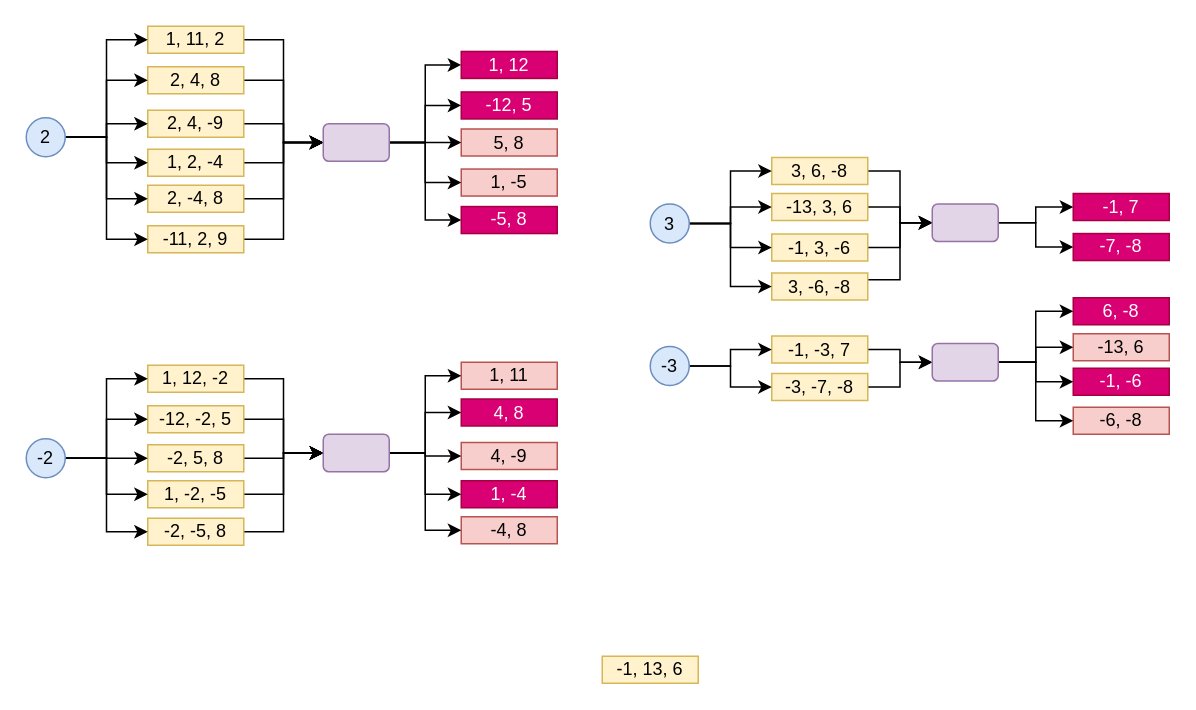
This 1196x710 diagram has some shape labels left out. The shapes that lost their labels are listed below. From the top down, each one's centre as x and y in pixels, then its label:
At (x=355, y=141): "2=A".
At (x=964, y=222): "3=A".
At (x=964, y=361): "3=Ψ".
At (x=355, y=452): "2=Ψ".
